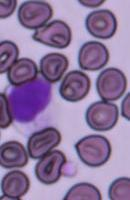M: (6, 75, 58, 135)
